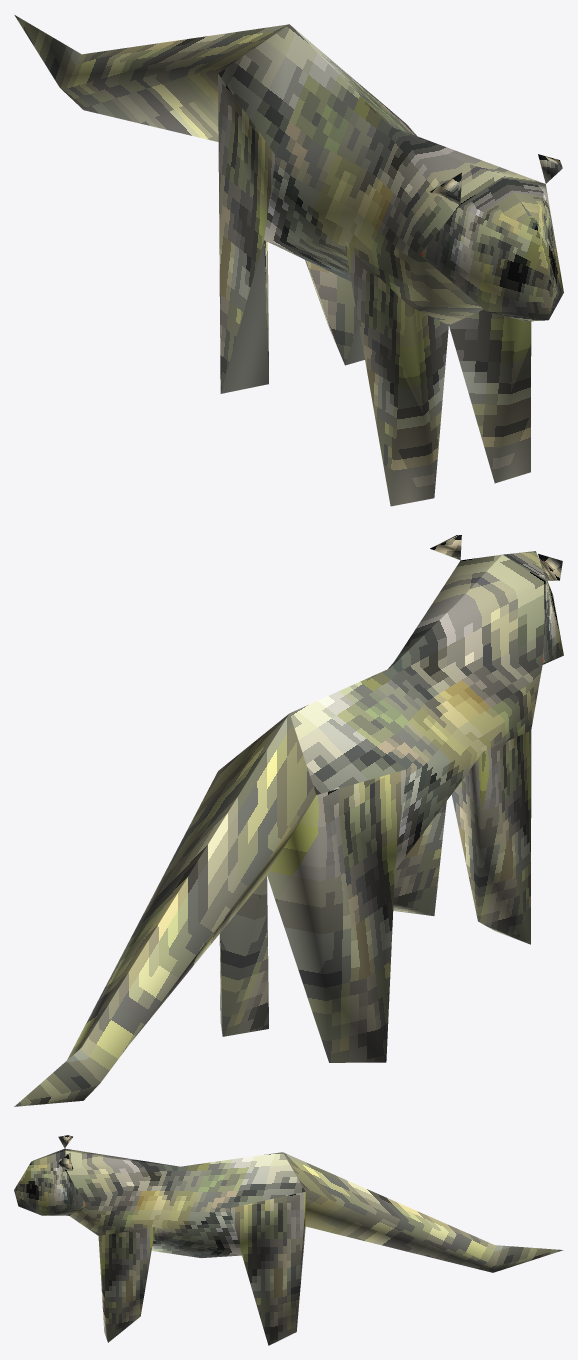
The model's file is kittle_hue_l3.fbx.
The picture shows the model from 3 angles, top to bottom: view 1: azimuth 30°, elevation 25°; view 2: azimuth 150°, elevation 25°; view 3: azimuth 270°, elevation 25°; orthographic projection. The views are drawn at different scales.
Visible parts, largest first — view 1: mesh_node; view 2: mesh_node; view 3: mesh_node.
Boxes of the visible parts, box(x1,y1,x2,y2) form: mesh_node: box(14, 15, 563, 506); mesh_node: box(14, 535, 563, 1106); mesh_node: box(14, 1135, 563, 1345).
Size of the model in its own units: 0.1819 by 0.3718 by 1.02.
